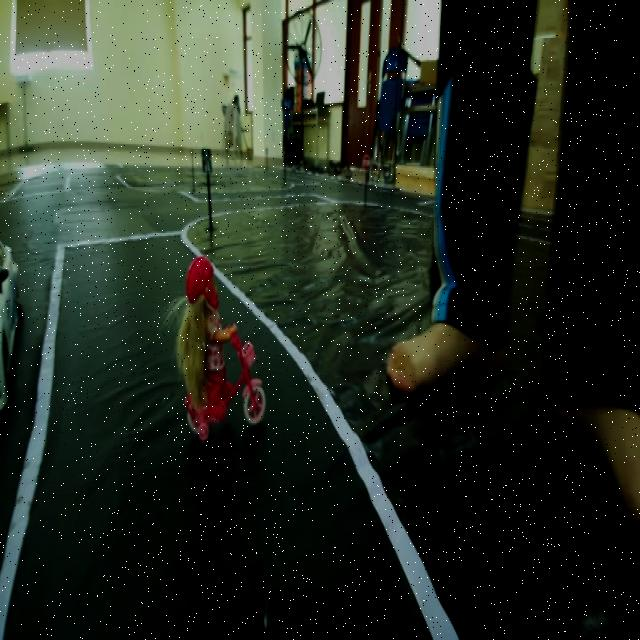pedestrian: (167, 254, 270, 436)
